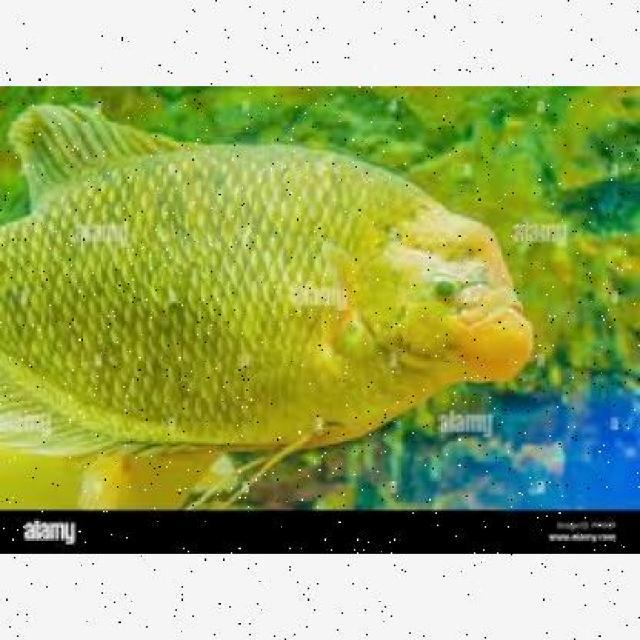gurame: (0, 106, 532, 441)
